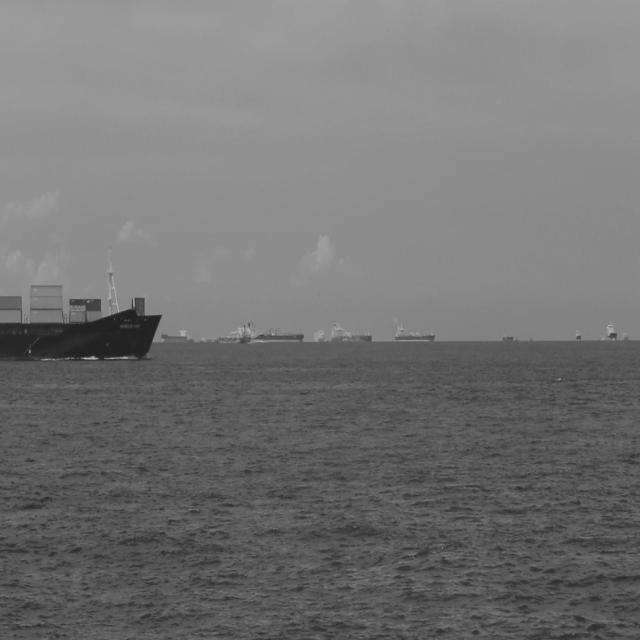ship: (0, 259, 160, 362), (394, 316, 438, 342), (331, 318, 378, 342), (226, 321, 262, 346), (260, 327, 308, 344), (163, 325, 196, 343)
